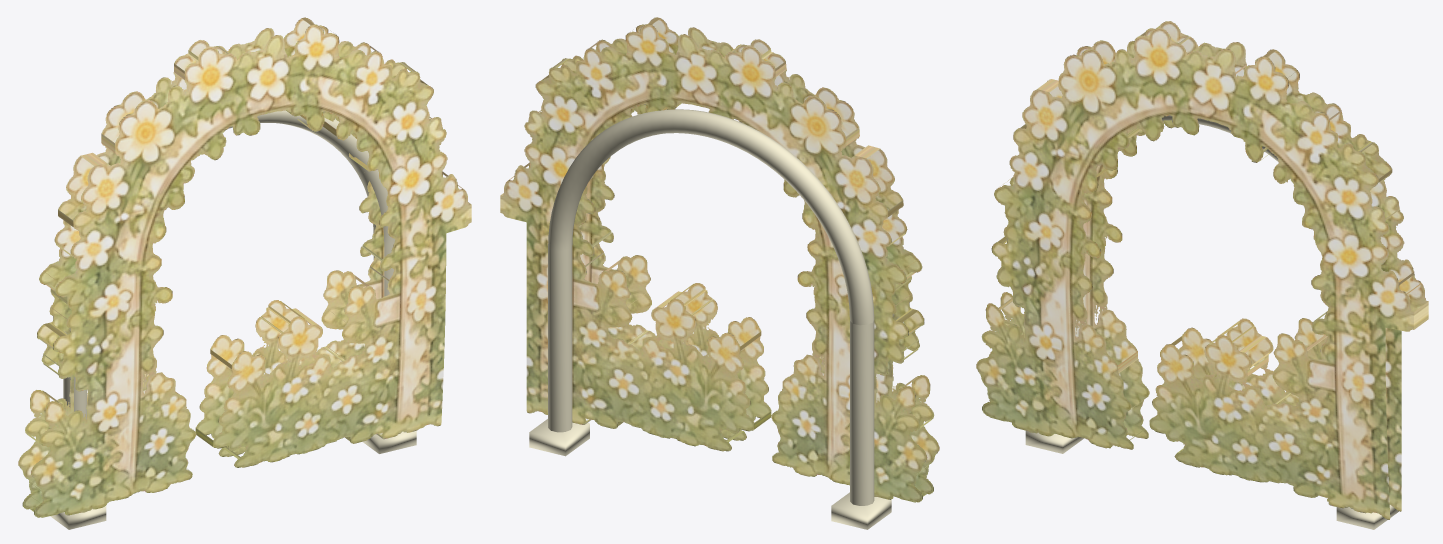
File: garden_flower_arch.glb
3 views of the same model, side by side, from view 1: azimuth 30°, elevation 25°; view 2: azimuth 150°, elevation 25°; view 3: azimuth 330°, elevation 25° (orthographic). The views are drawn at different scales.
Parts seen in each view (by area): view 1: flower_arch / painted relief, flower_arch / reconstructed rear, Arch / curved structural frame, flower_arch / inferred contour depth, Arch / foot (×2); view 2: flower_arch / reconstructed rear, Arch / curved structural frame, flower_arch / painted relief, Arch / foot (×2), flower_arch / inferred contour depth; view 3: flower_arch / painted relief, flower_arch / reconstructed rear, flower_arch / inferred contour depth, Arch / foot (×2).
Part boxes in pixels (x1=…): flower_arch / painted relief: x1=31, y1=24, x2=471, y2=517; flower_arch / reconstructed rear: x1=18, y1=18, x2=443, y2=509; Arch / curved structural frame: x1=63, y1=110, x2=394, y2=419; flower_arch / inferred contour depth: x1=27, y1=17, x2=470, y2=511; Arch / foot (×2): x1=50, y1=430, x2=416, y2=529; flower_arch / reconstructed rear: x1=500, y1=24, x2=927, y2=502; Arch / curved structural frame: x1=548, y1=109, x2=874, y2=505; flower_arch / painted relief: x1=528, y1=17, x2=939, y2=494; Arch / foot (×2): x1=529, y1=419, x2=891, y2=529; flower_arch / inferred contour depth: x1=501, y1=17, x2=931, y2=496; flower_arch / painted relief: x1=976, y1=27, x2=1414, y2=519; flower_arch / reconstructed rear: x1=989, y1=21, x2=1428, y2=511; flower_arch / inferred contour depth: x1=998, y1=26, x2=1428, y2=481; Arch / foot (×2): x1=1025, y1=430, x2=1398, y2=529.
Size of the model in its own units: 7.7 by 7.57 by 1.21.
2 materials, 1 textured.
